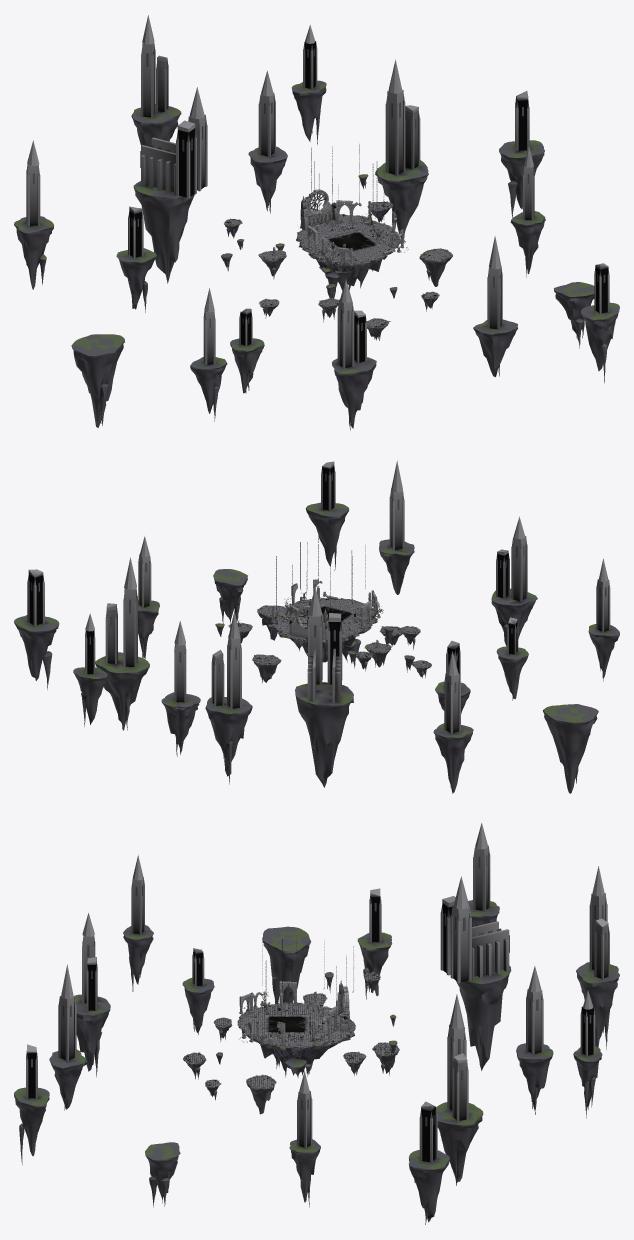
The model's file is environment.glb.
3 views of the same model, one above another, from view 1: azimuth 30°, elevation 25°; view 2: azimuth 150°, elevation 25°; view 3: azimuth 270°, elevation 25° (orthographic). The views are drawn at different scales.
Visible parts, largest first — view 1: env_far, env_floor, env_arches, env_rosewindow; view 2: env_far, env_floor, env_arches, env_rosewindow; view 3: env_far, env_floor, env_arches.
Part boxes in pixels (x1,y1,x2,y2): env_far: (14, 15, 619, 430); env_floor: (221, 174, 452, 340); env_arches: (306, 200, 408, 266); env_rosewindow: (301, 189, 336, 230); env_far: (14, 460, 619, 793); env_floor: (215, 598, 431, 682); env_arches: (282, 579, 382, 628); env_rosewindow: (289, 605, 328, 640); env_far: (14, 823, 619, 1224); env_floor: (183, 972, 399, 1114); env_arches: (239, 981, 338, 1046).
Bounding box in the file's own units: 180 × 81.09 × 171.
